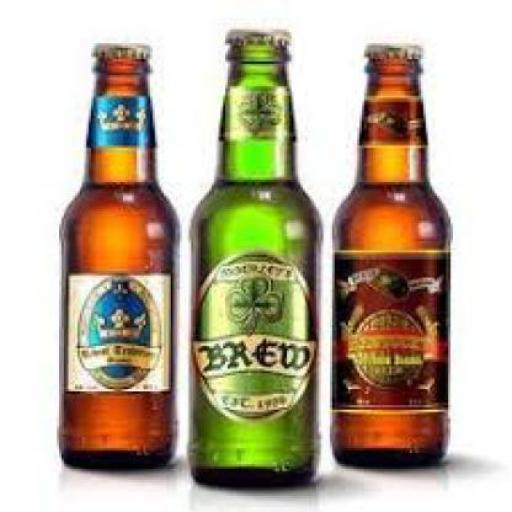glass: (187, 41, 318, 485), (328, 54, 446, 467), (59, 54, 177, 467)
metal: (88, 39, 148, 59), (362, 41, 421, 59), (223, 27, 289, 43)
